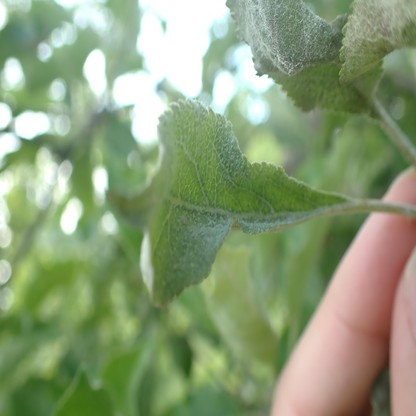powdery_mildew: (161, 101, 308, 304), (226, 0, 338, 74), (339, 0, 415, 84)
